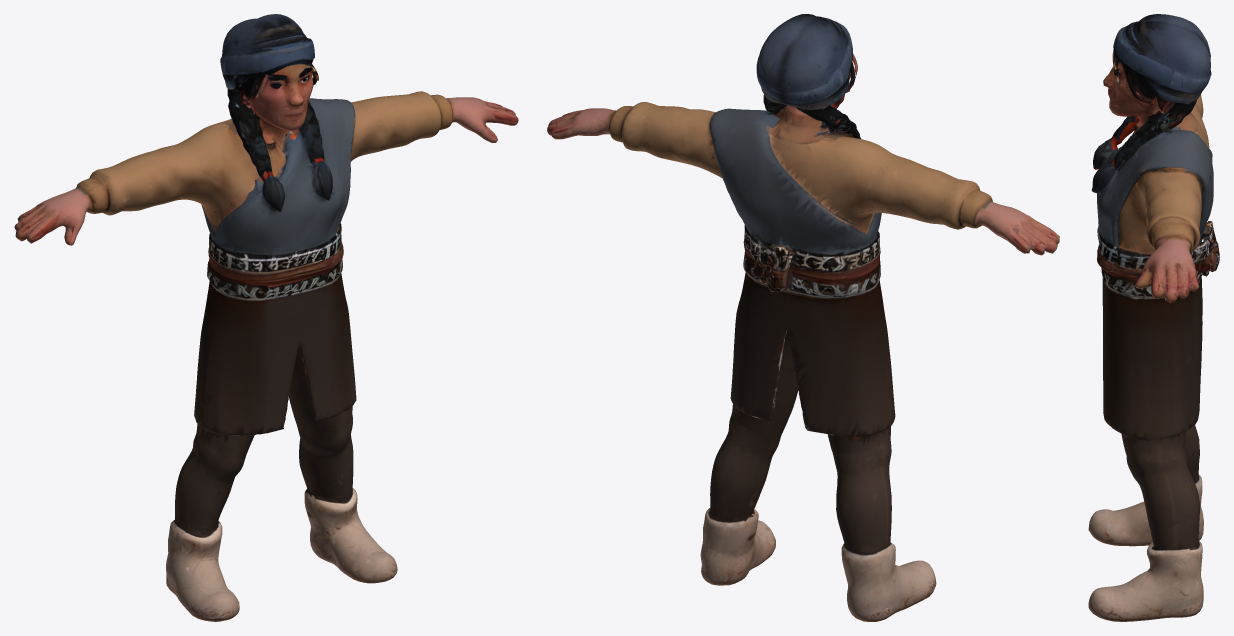
The model's file is poblador_2_mixamo.fbx.
3 views of the same model, side by side, from view 1: azimuth 30°, elevation 25°; view 2: azimuth 150°, elevation 25°; view 3: azimuth 270°, elevation 25° (orthographic). The views are drawn at different scales.
Parts seen in each view (by area): view 1: poblador_2; view 2: poblador_2; view 3: poblador_2.
Boxes of the visible parts, x1,y1,x2,y2 form: poblador_2: (14,14,518,621); poblador_2: (547,14,1059,621); poblador_2: (1088,14,1219,621).
Size of the model in its own units: 146 by 157 by 33.47.
1 material, 1 textured.
